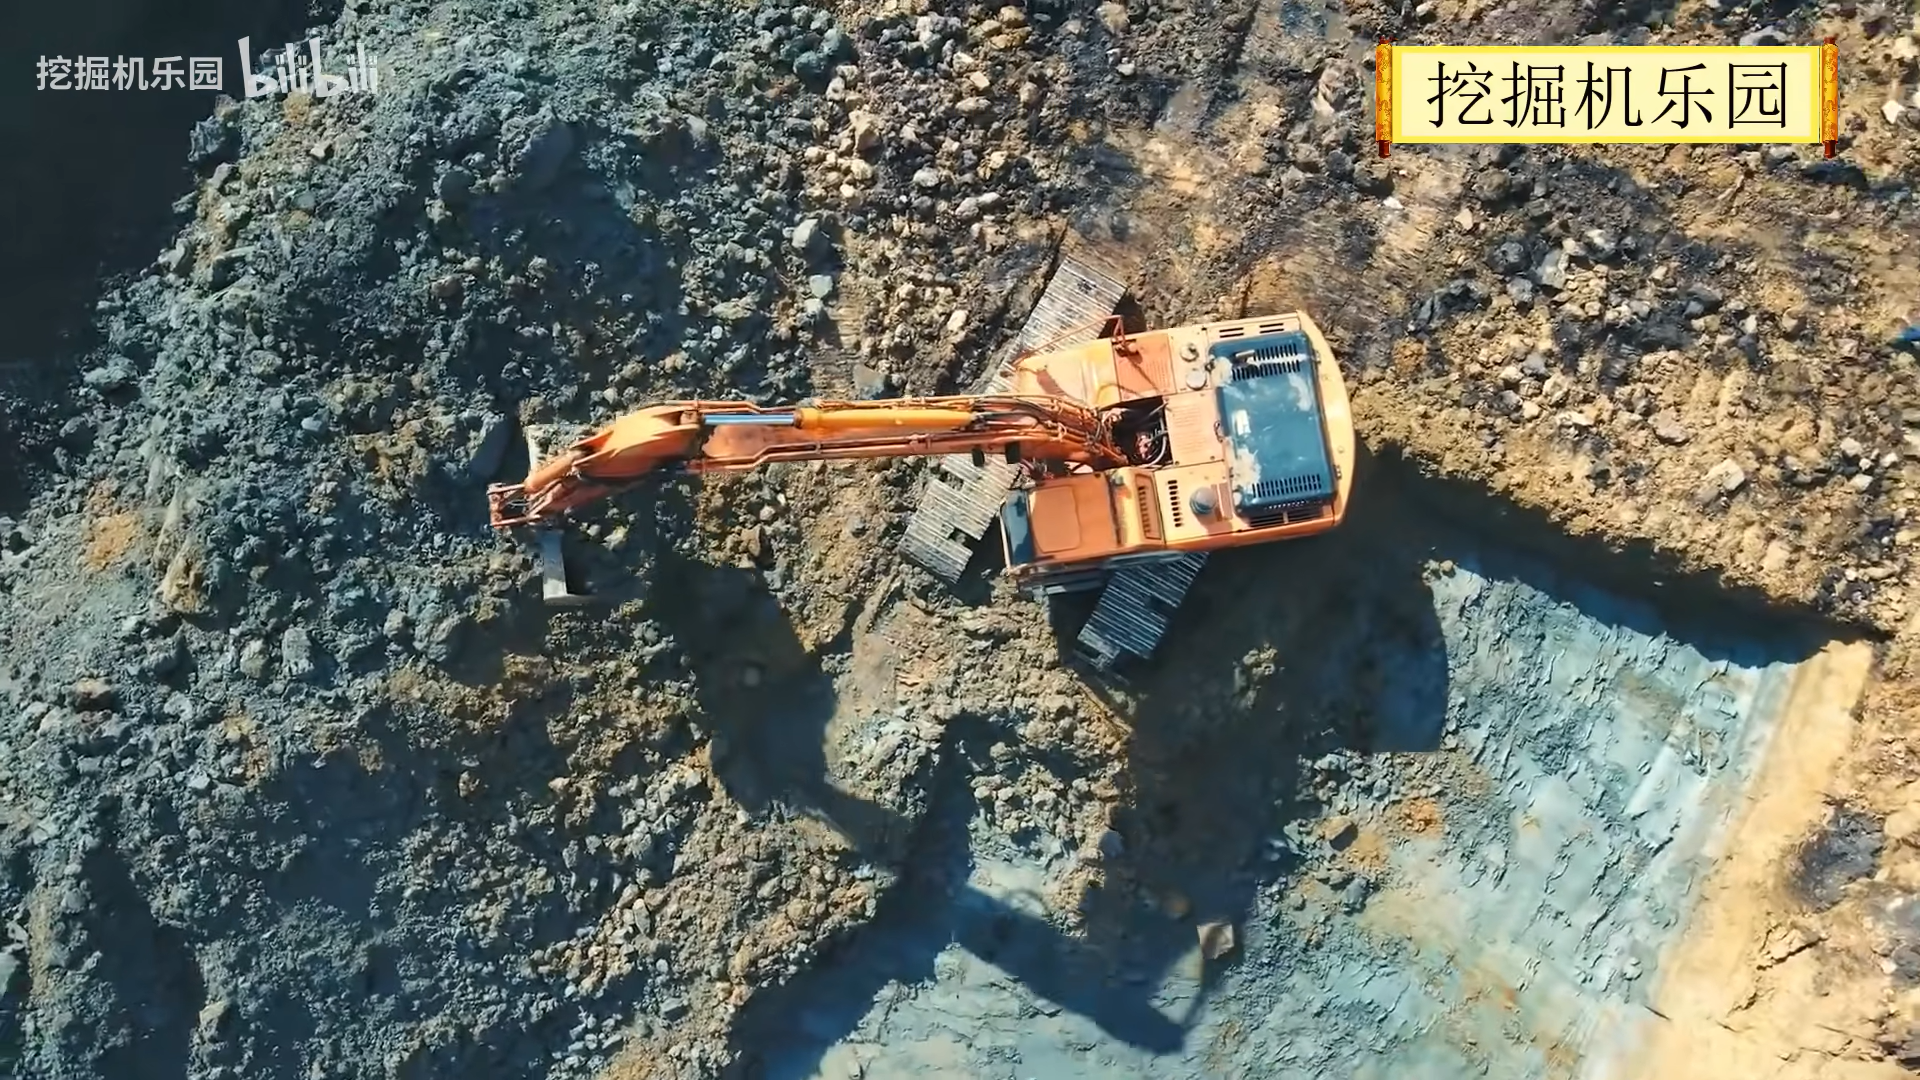excavator: (489, 227, 1364, 703)
